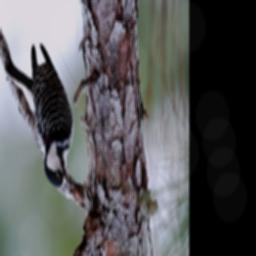Woodpecker: (4, 42, 77, 193)
